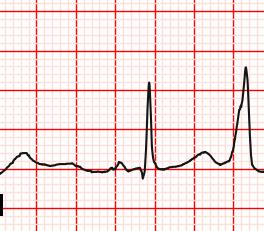LVH: (178, 149, 222, 170)
